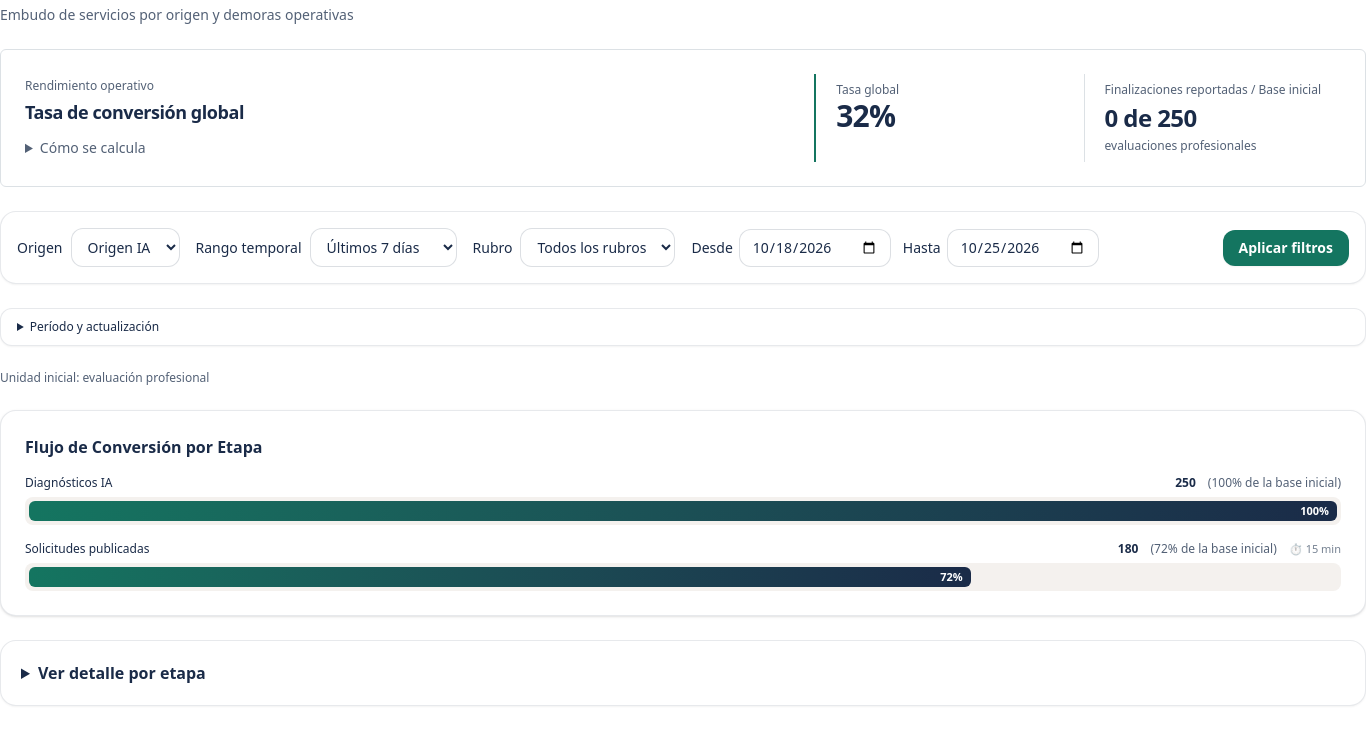
Test: MetricsView › keeps methodology, period metadata and stage details in native disclosures
This screenshot has width=1366, height=731.
Click the heading "Cómo se calcula".
click(85, 148)  # box x1=25 y1=138 x2=146 y2=158
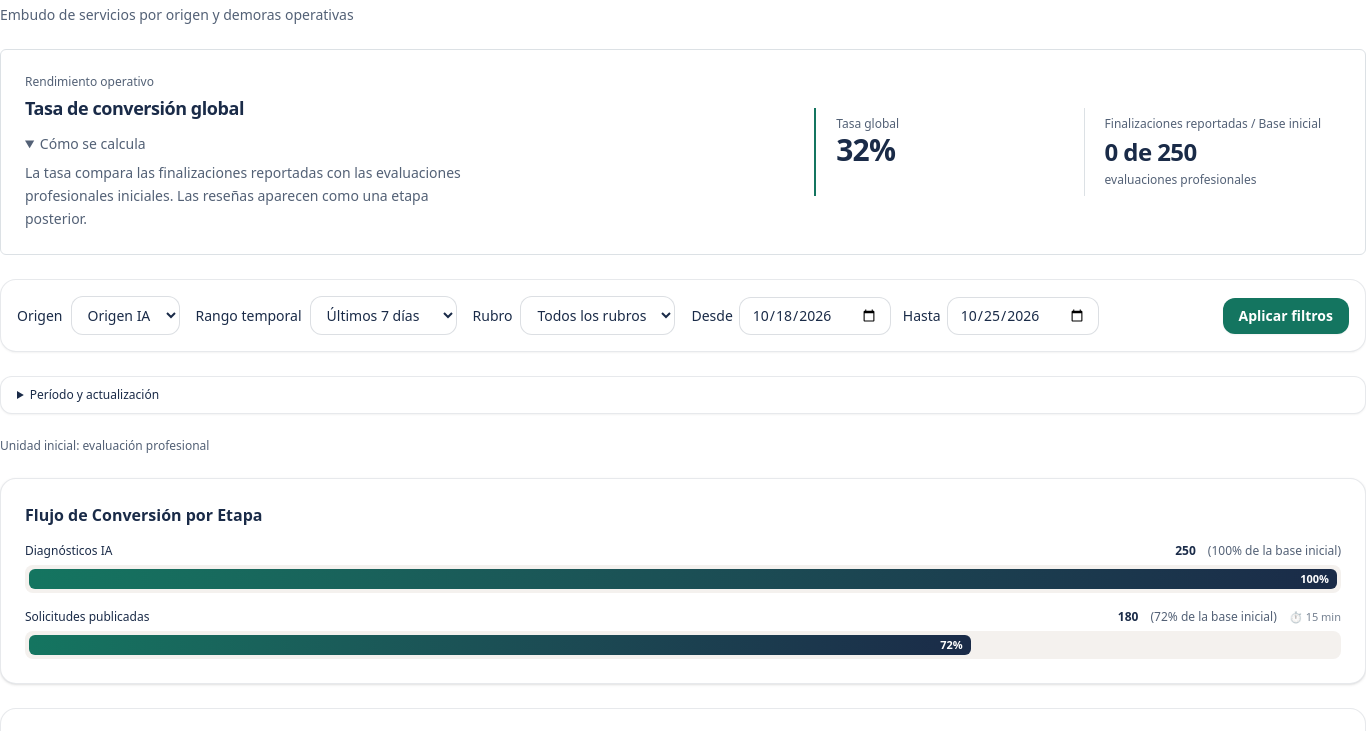
Check: the text "La tasa compara las finalizaciones reportadas" is shown, box x1=25 y1=163 x2=461 y2=228
Click the heading "Período y actualización".
click(88, 395)  # box x1=17 y1=387 x2=159 y2=403
(page scrolled)
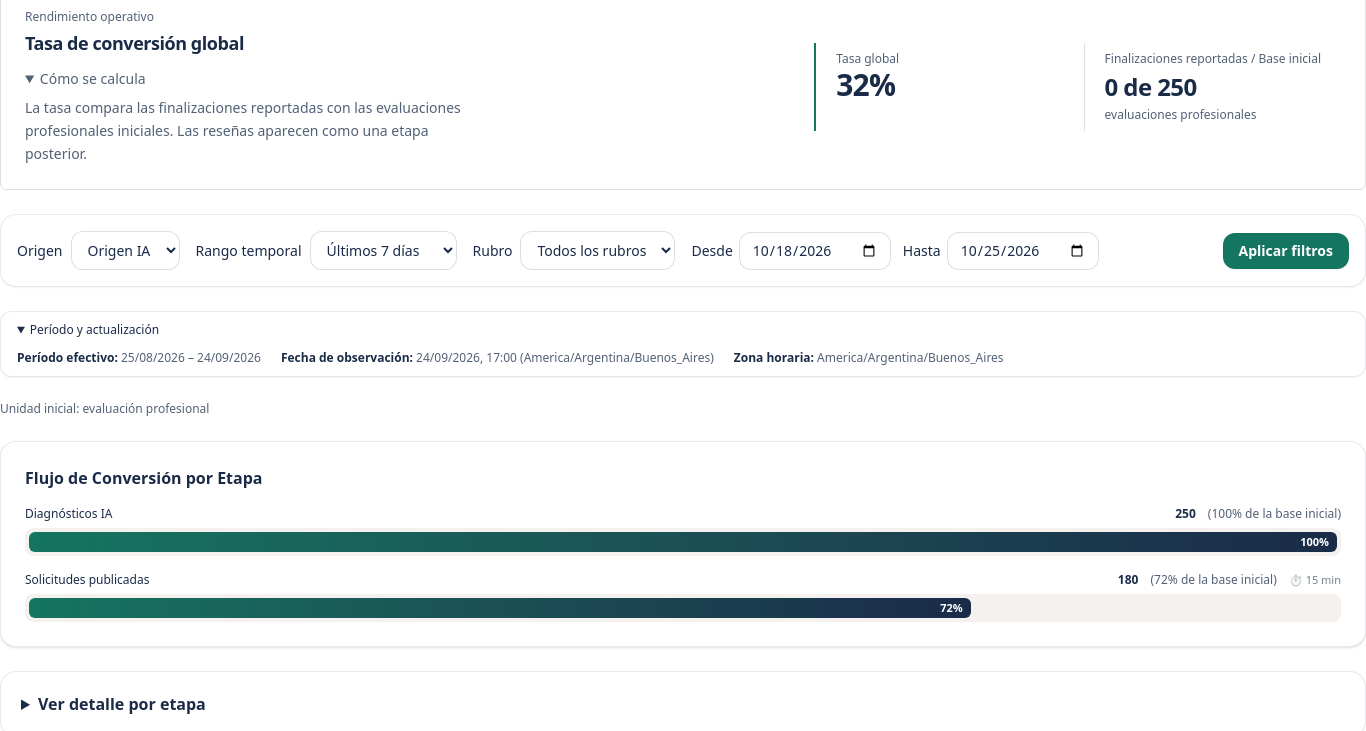
Check: the text with test id "funnel-timezone" reads "America/Argentina/Buenos_Aires", box x1=817 y1=349 x2=1004 y2=366
Check: the text "25/08/2026 – 24/09/2026" is shown, box x1=121 y1=349 x2=261 y2=366
Check: the text "24/09/2026, 17:00 (America/Argentina/Buenos_Aires)" is shown, box x1=416 y1=349 x2=714 y2=366
Click the heading "Ver detalle por etapa".
click(113, 704)  # box x1=21 y1=692 x2=206 y2=716
(page scrolled)
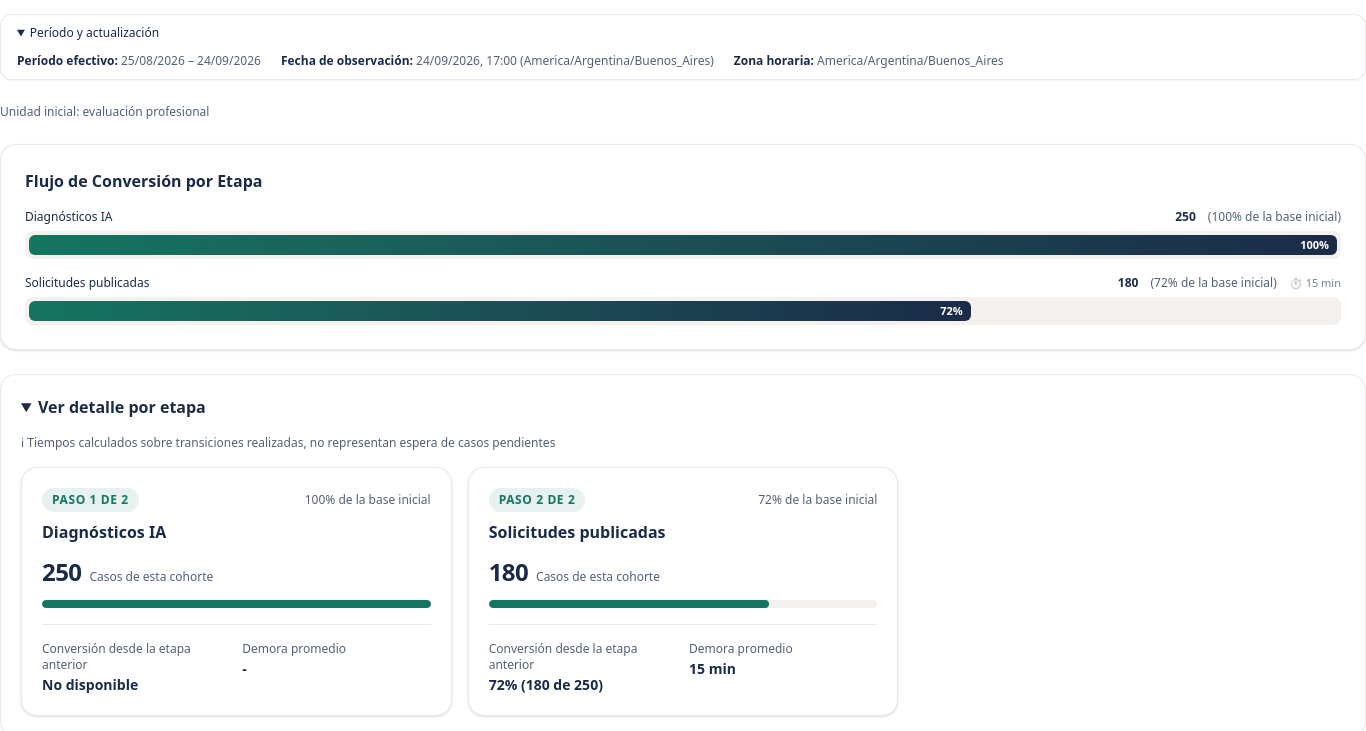
Check: the text with test id "funnel-delays-notice" is shown, box x1=21 y1=434 x2=555 y2=451
Check: the text "72% (180 de 250)" is shown, box x1=489 y1=675 x2=603 y2=694
